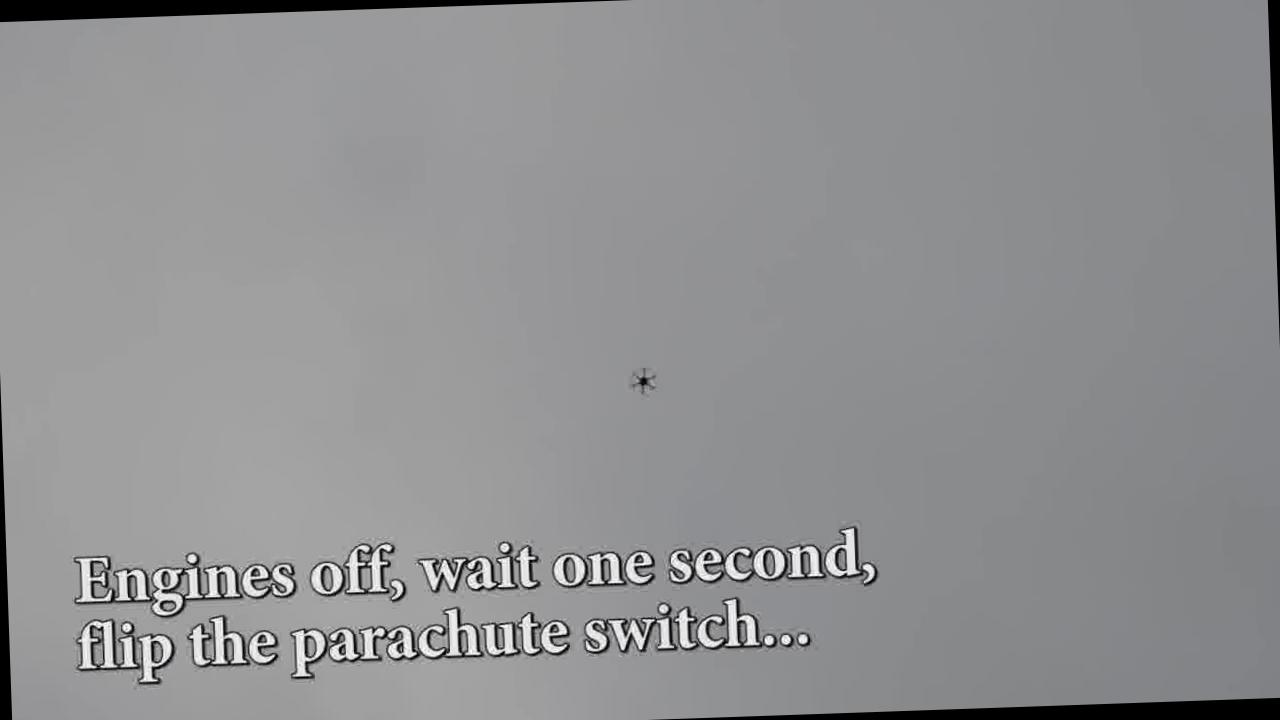drone: (624, 360, 658, 398)
